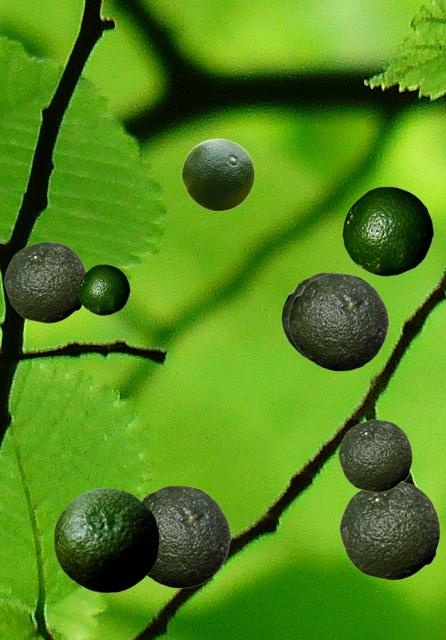calamansi: (53, 487, 158, 592), (339, 482, 439, 579), (288, 273, 388, 370), (141, 485, 230, 587), (342, 186, 433, 275), (4, 241, 85, 322), (281, 272, 341, 362), (181, 138, 254, 210), (338, 419, 411, 491), (78, 264, 129, 314)
